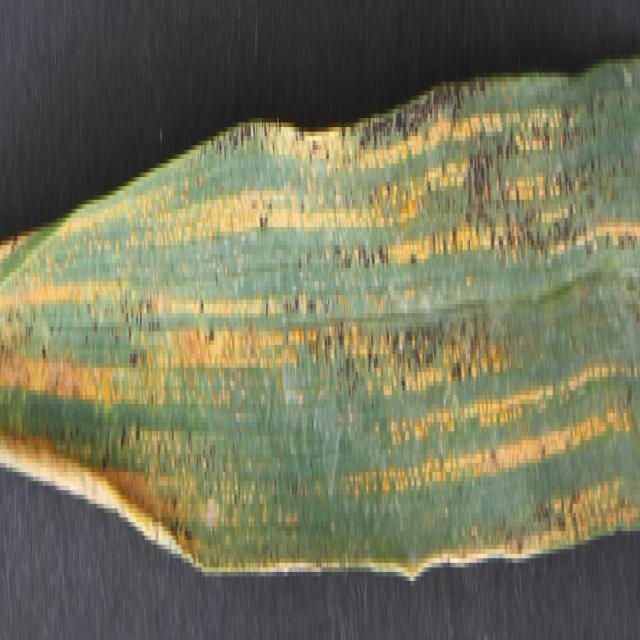leaf rust: (1, 109, 640, 572)
